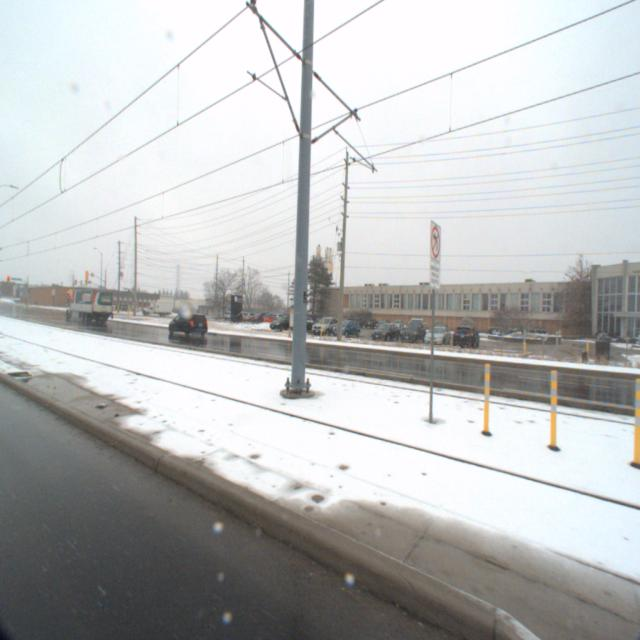Car: (166, 312, 214, 340), (394, 322, 424, 347), (306, 318, 341, 339), (448, 327, 476, 351), (326, 321, 359, 341), (419, 327, 449, 349), (367, 324, 399, 344)
Truck: (60, 286, 114, 322), (137, 303, 171, 318)
